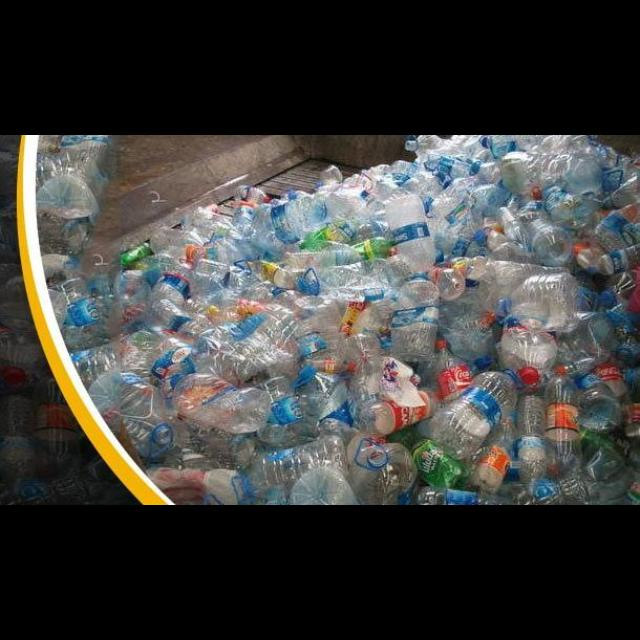trash: (428, 366, 516, 450), (242, 435, 348, 503), (170, 373, 272, 435), (339, 333, 389, 437), (498, 271, 580, 329), (542, 364, 582, 474), (295, 368, 363, 432), (34, 376, 78, 474), (469, 410, 519, 492), (352, 442, 416, 506), (400, 432, 466, 494), (385, 194, 437, 272), (392, 274, 438, 362), (290, 296, 344, 370), (54, 277, 106, 353), (118, 373, 172, 445), (361, 389, 439, 436), (500, 323, 558, 382), (295, 258, 395, 292), (150, 468, 242, 504), (584, 448, 640, 506), (517, 397, 549, 498), (2, 321, 52, 385), (436, 188, 488, 245), (282, 470, 363, 506), (34, 176, 98, 220), (446, 311, 496, 365), (429, 338, 473, 398), (151, 259, 199, 313), (594, 366, 636, 426), (59, 136, 111, 184), (297, 220, 359, 260), (2, 395, 34, 471), (150, 227, 207, 269), (267, 370, 305, 430), (582, 371, 618, 434), (526, 220, 574, 266), (7, 463, 58, 505), (542, 190, 592, 230), (416, 485, 516, 505), (118, 332, 160, 378), (496, 204, 534, 253), (150, 298, 198, 336), (501, 150, 542, 194), (596, 270, 640, 308), (589, 244, 640, 275), (248, 261, 300, 291), (421, 152, 471, 180), (432, 263, 466, 303), (351, 235, 399, 261), (601, 175, 640, 207), (380, 160, 418, 190), (117, 241, 151, 271), (232, 184, 272, 208), (404, 135, 446, 157), (316, 163, 346, 191), (288, 190, 312, 224), (232, 204, 254, 236)
